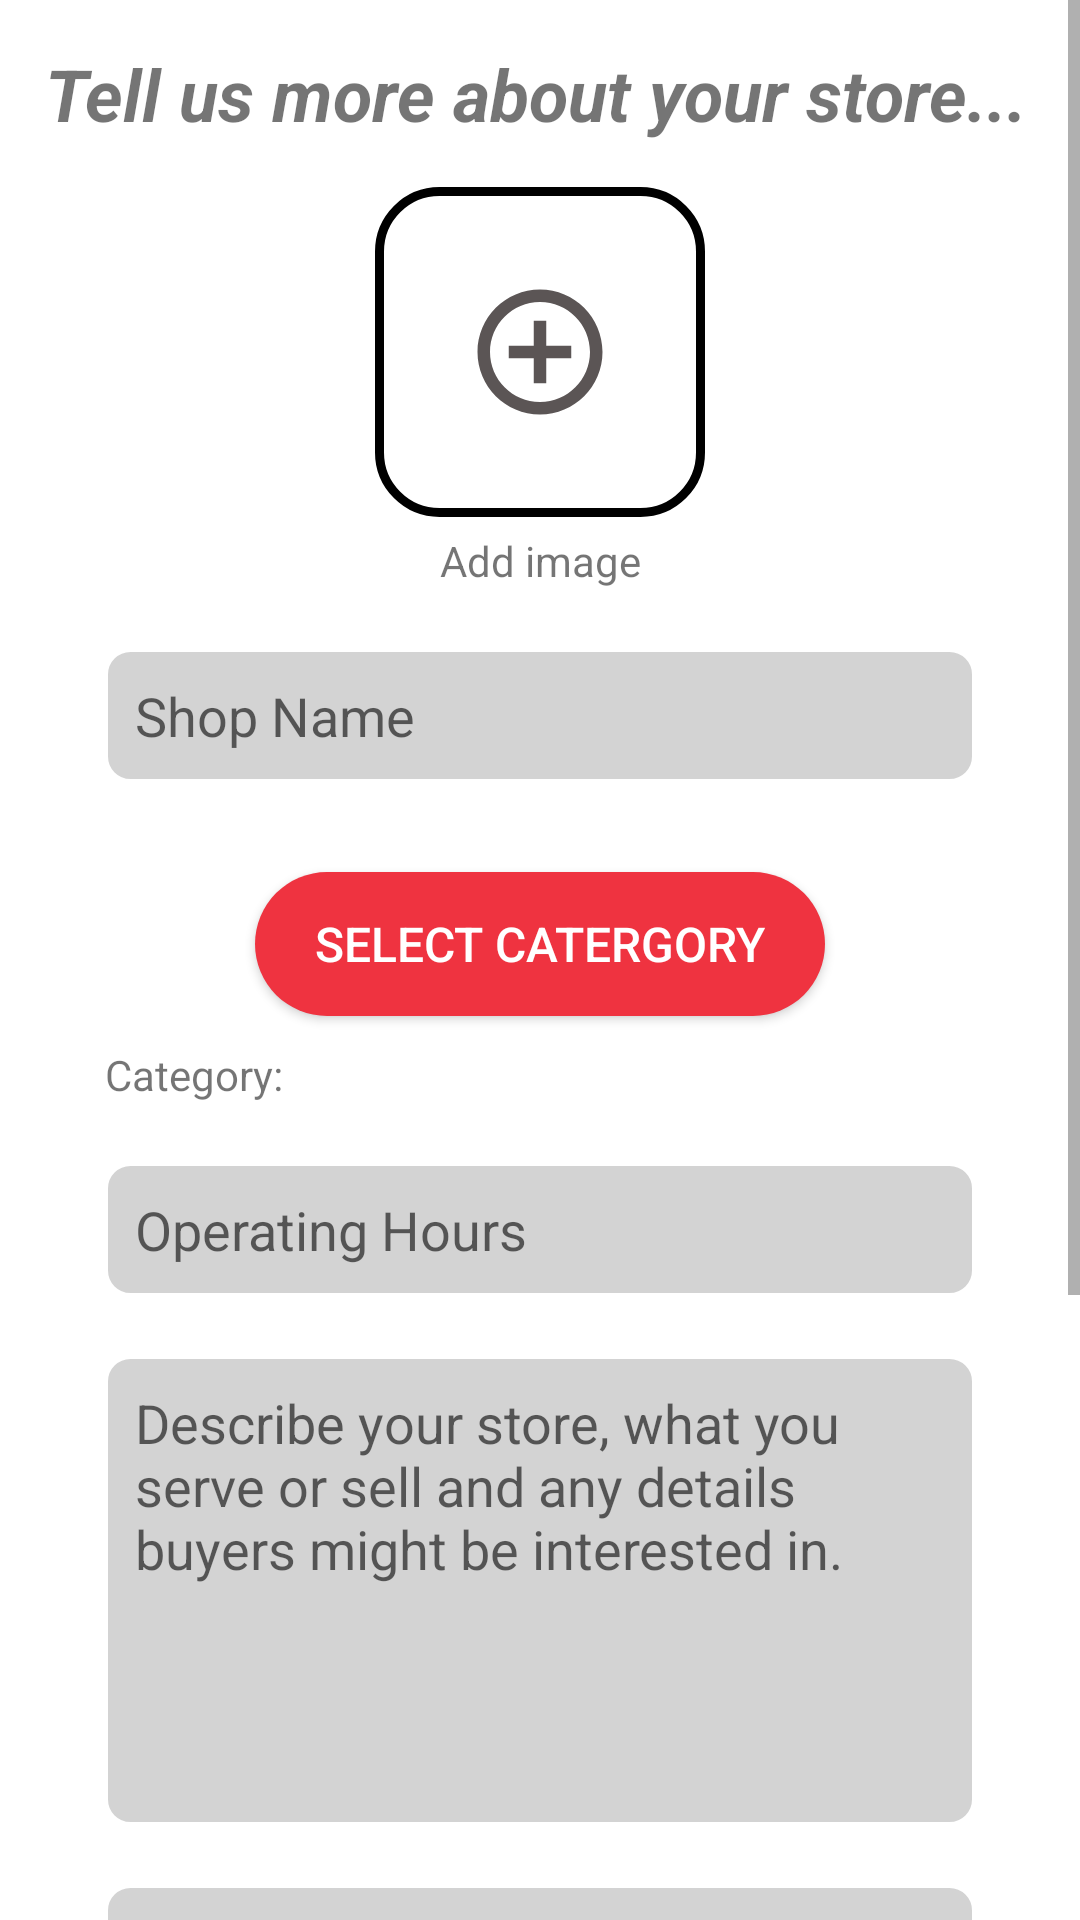

Where icons sit on this 1080*1920 app screen, as (x1, y1, x2, y2):
add circle: (375, 187, 705, 517)
